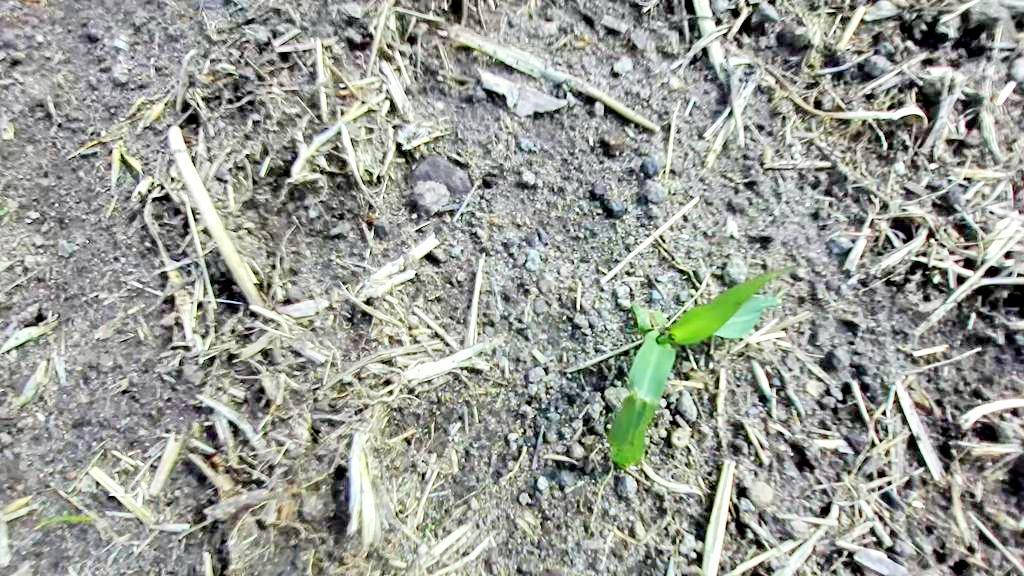BroWeed: (0, 205, 10, 217), (427, 524, 436, 531)
Maize: (543, 200, 810, 475)
NarWeed: (32, 508, 92, 530)
